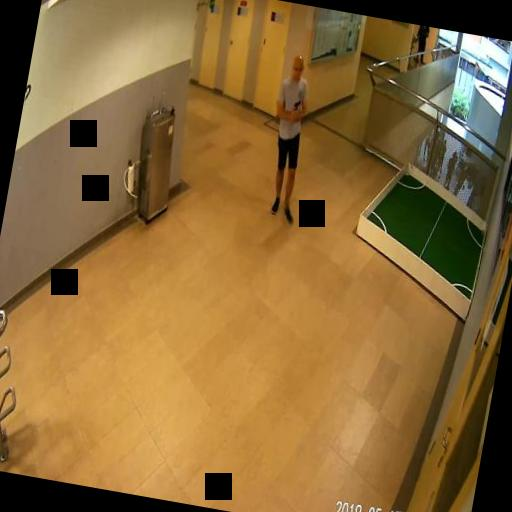Handgun: (290, 96, 299, 117)
